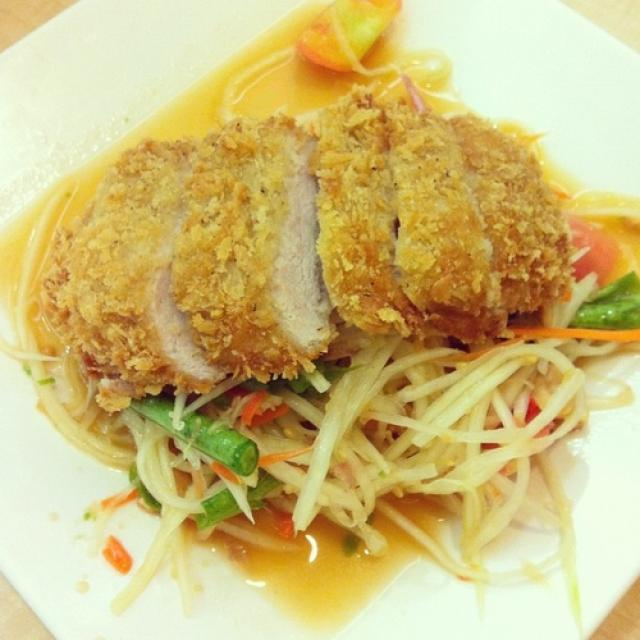蔬菜料理: (11, 37, 634, 613)
